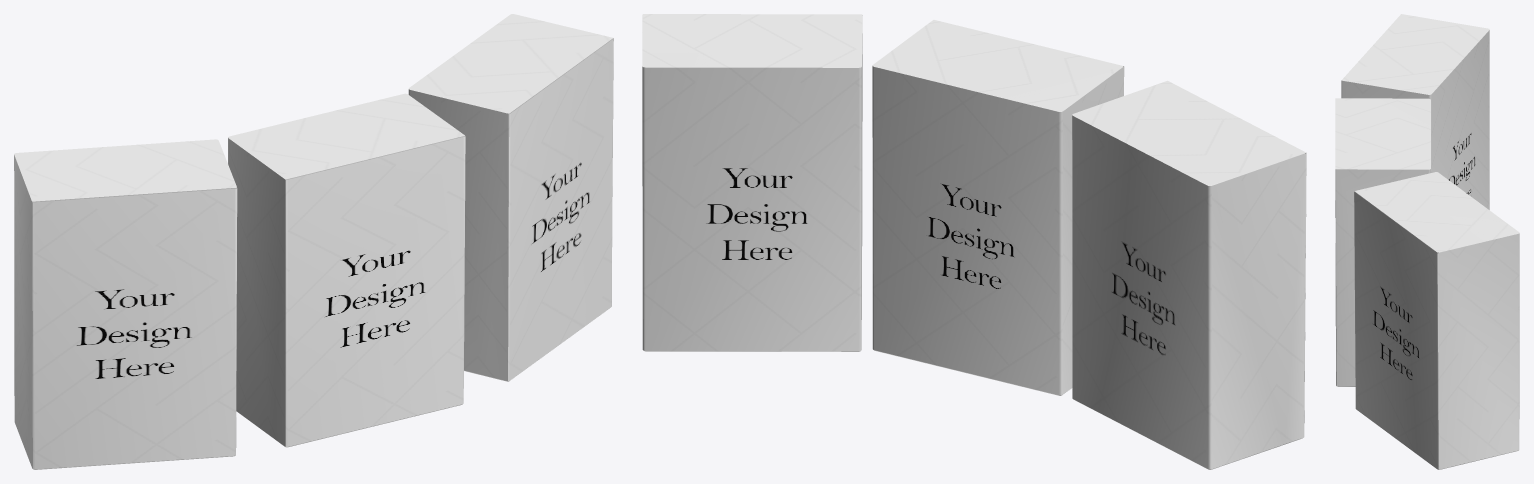
File: Folding A-4.glb
3 renders of one model, left to right at view 1: azimuth 30°, elevation 25°; view 2: azimuth 150°, elevation 25°; view 3: azimuth 270°, elevation 25°, orthographic. The views are drawn at different scales.
Visible parts, largest first — view 1: Box4.004, Box4.003, Box4.006; view 2: Box4.003, Box4.006, Box4.004; view 3: Box4.006, Box4.003, Box4.004.
Boxes of the visible parts, x1,y1,x2,y2 form: Box4.004: (228, 93, 465, 447); Box4.003: (14, 139, 237, 469); Box4.006: (408, 14, 613, 381); Box4.003: (1072, 80, 1306, 469); Box4.006: (642, 14, 862, 351); Box4.004: (872, 20, 1124, 395); Box4.006: (1354, 172, 1519, 469); Box4.003: (1341, 14, 1489, 209); Box4.004: (1335, 98, 1430, 386).
Size of the model in its own units: 4.11 by 1.75 by 1.34.
1 material, 1 textured.
